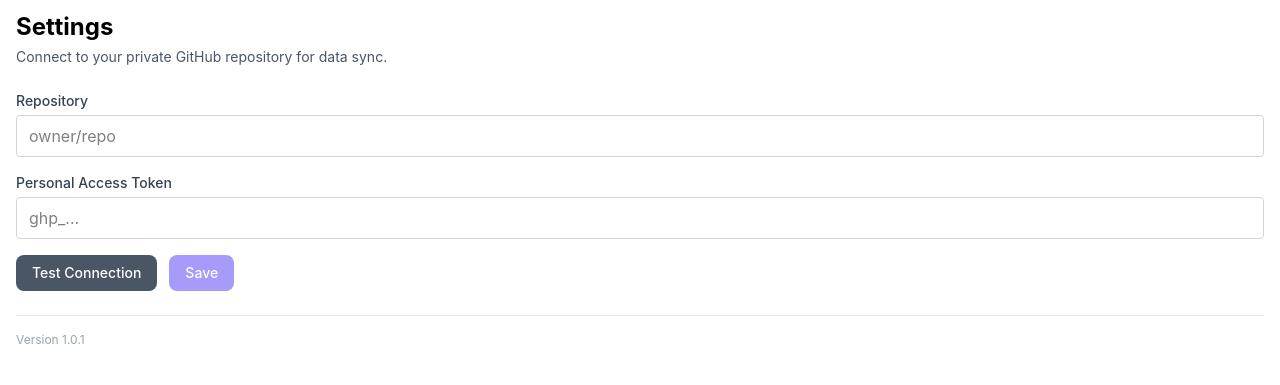
Settings › validation › should show error when repository format is invalid
In the field with test id "input-repo": x=640, y=136 top-left (16, 115), bottom-right (1264, 157), type "invalidformat"
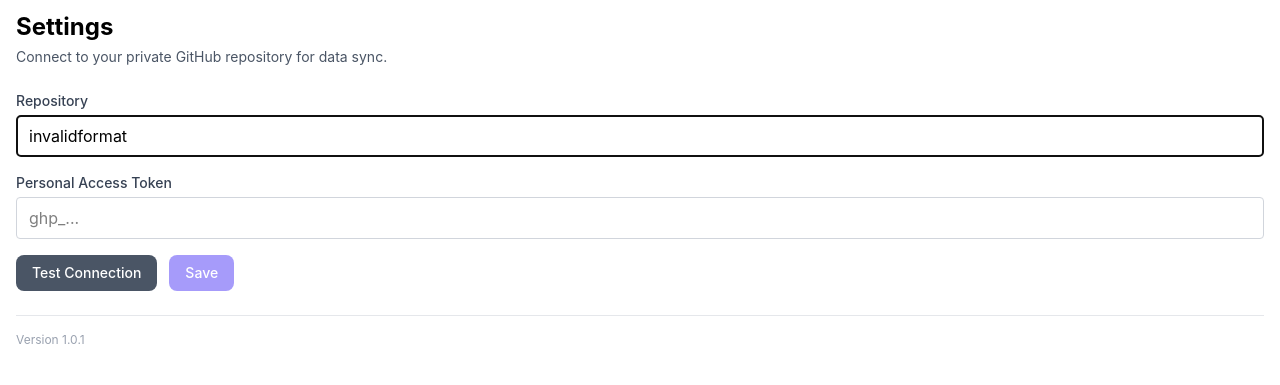
In the password field with test id "input-pat": x=640, y=218 top-left (16, 197), bottom-right (1264, 239), type "ghp_test"
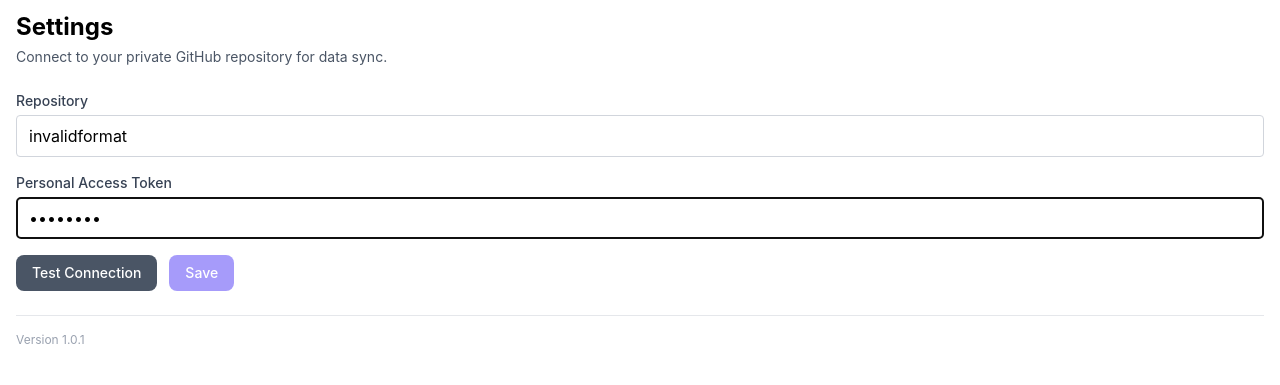
Click the button with test id "test-connection": x=87, y=273 top-left (16, 255), bottom-right (157, 291)
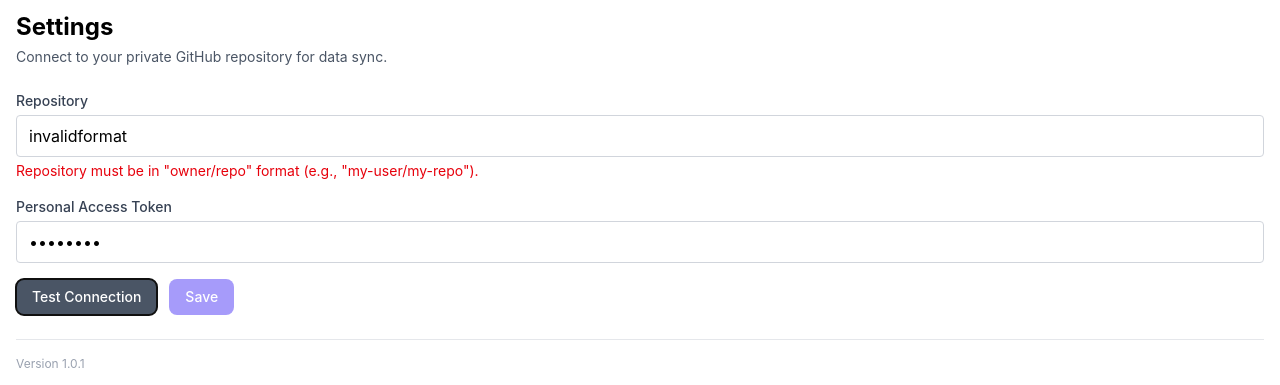
Expected: the text with test id "error-repo" shows "owner/repo", top-left (16, 162), bottom-right (479, 179)
